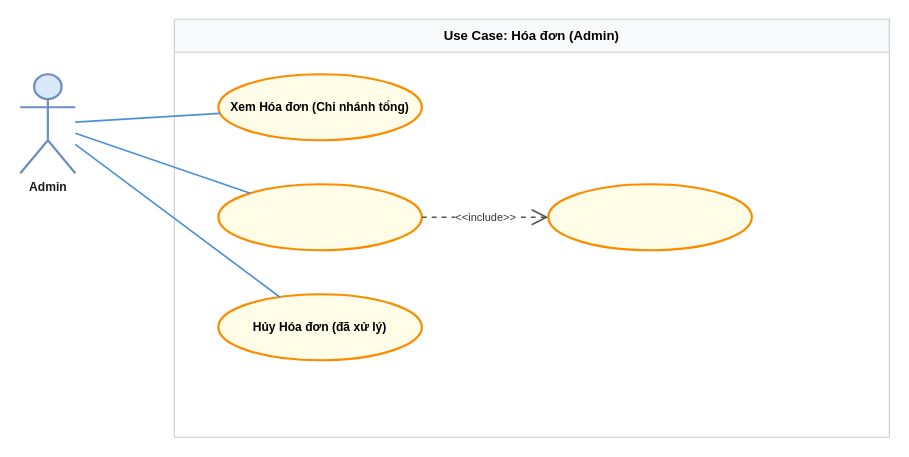
Image size: 909x457. Some labels were removed from this diagram. Here are the shapes that lost their labels. From the top down, the centre of each, then its label:
At point (319, 217): "Phê duyệt Hóa đơn".
At point (649, 217): "Hệ thống tự động trừ tồn kho".
